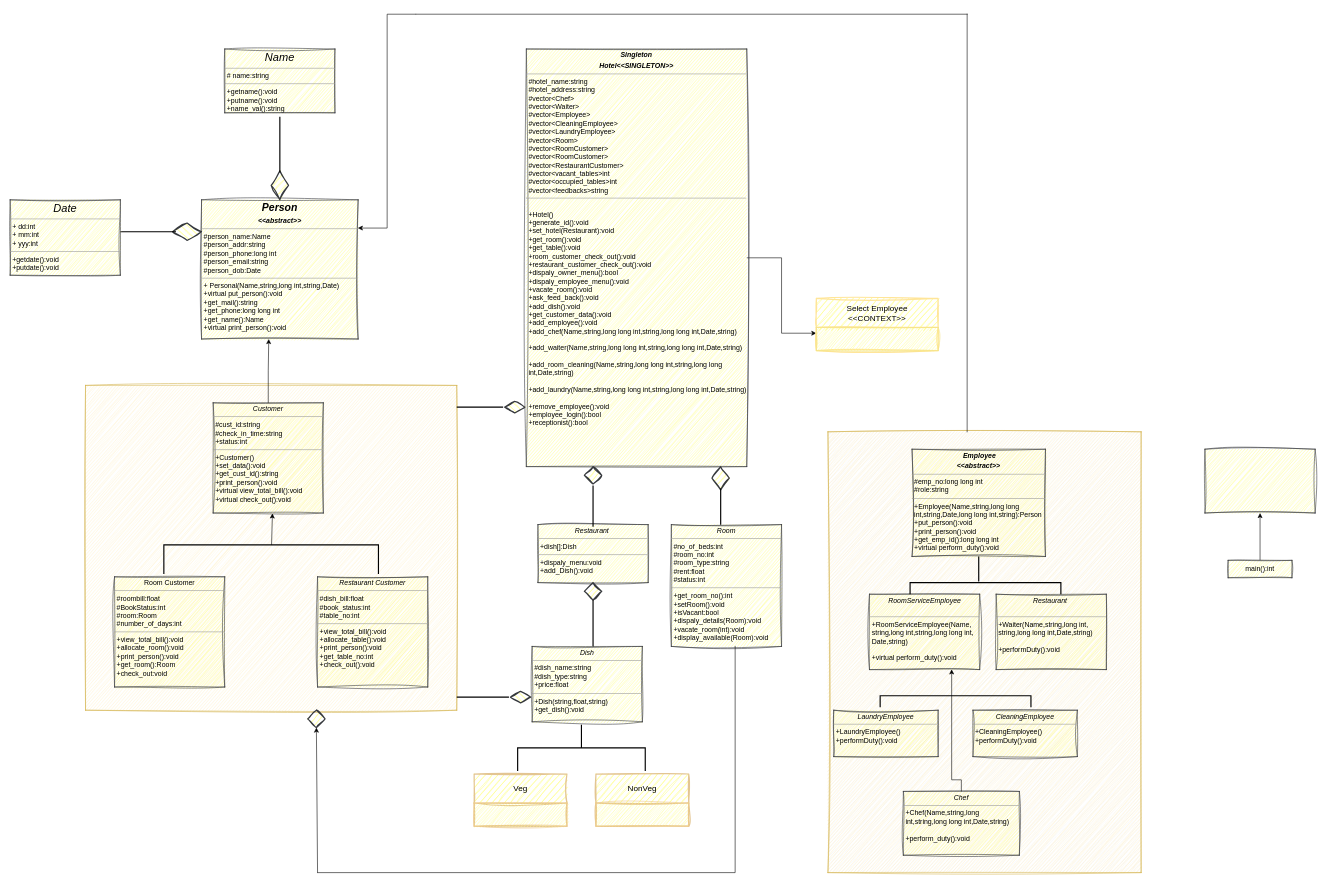
This 1325x887 diagram has some shape labels left out. Each missing label, with the box of its shape:
+get_non_veg_food(string): (595, 802, 689, 826)
+get_veg_food(string): (474, 802, 567, 826)
+virtual performDuty():void=0: (816, 327, 938, 351)
Exception +errorNo:int +errormsg:string +ExceptionHandler() +showError():void: (1204, 449, 1315, 513)
